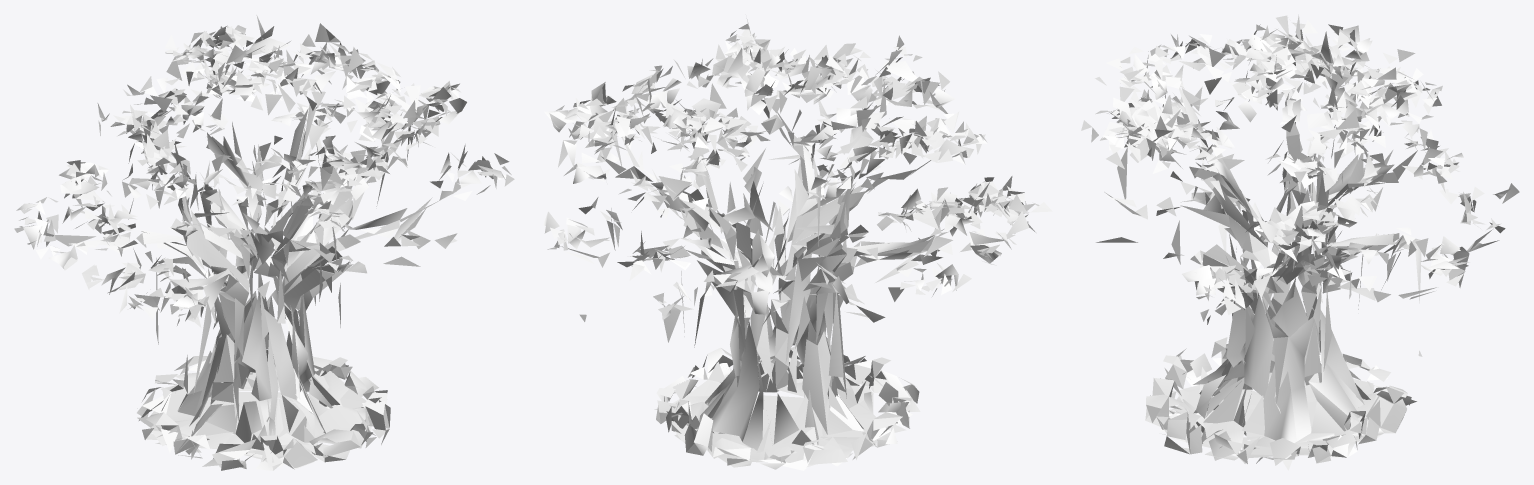
The model's file is oath_tree_lod2.glb.
3 renders of one model, left to right at view 1: azimuth 30°, elevation 25°; view 2: azimuth 150°, elevation 25°; view 3: azimuth 270°, elevation 25°, orthographic. The views are drawn at different scales.
Parts seen in each view (by area): view 1: oath_tree; view 2: oath_tree; view 3: oath_tree.
Part boxes in pixels (x1,y1,x2,y2): oath_tree: (14, 15, 514, 470); oath_tree: (543, 18, 1052, 470); oath_tree: (1081, 14, 1519, 470).
Bounding box in the file's own units: 19.82 × 16.76 × 16.66.
Materials: 1 (1 with a texture image).
